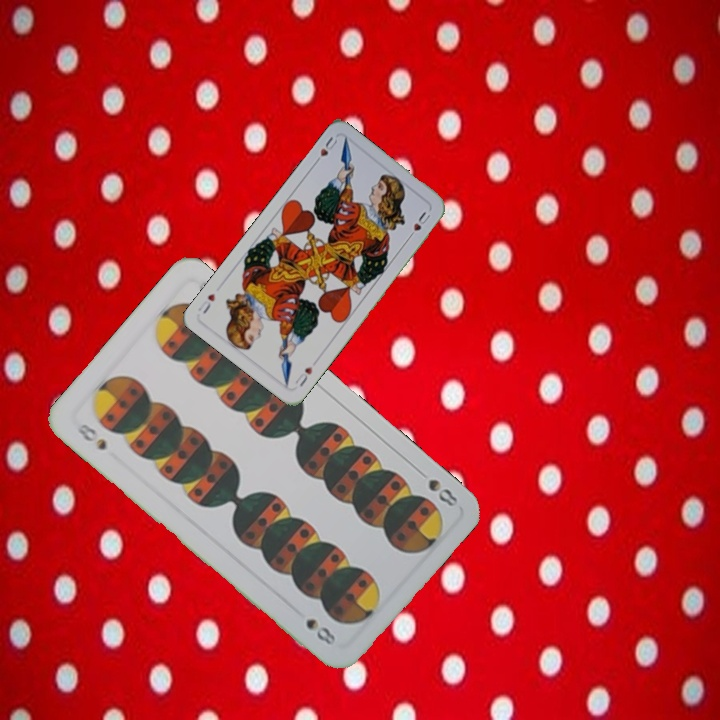HU: (310, 132, 340, 168), (291, 363, 315, 389)
S8: (412, 464, 461, 510), (72, 419, 110, 453)
